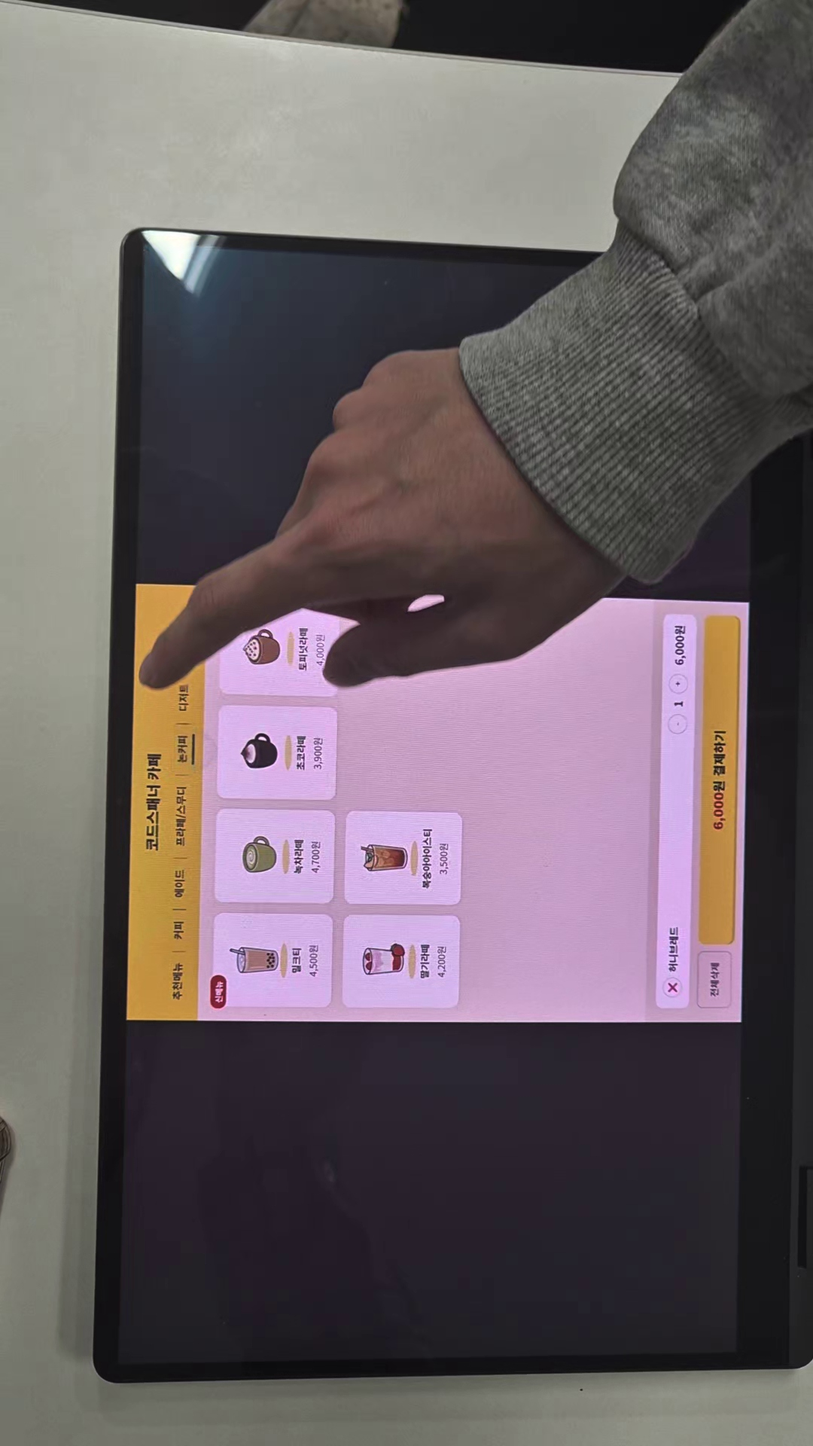action_button: (702, 612, 741, 941), (698, 948, 733, 1012)
cart_item: (658, 609, 697, 1008)
category_tab: (170, 782, 189, 850), (163, 960, 188, 1005), (173, 679, 196, 721), (168, 862, 188, 902), (175, 733, 194, 769), (167, 915, 189, 946)
menu_back: (218, 704, 336, 801), (345, 811, 464, 907), (215, 809, 336, 903), (220, 602, 341, 695), (214, 914, 334, 1007), (343, 915, 461, 1008)
menu_name: (421, 826, 435, 889), (295, 625, 310, 674), (292, 733, 307, 773), (292, 835, 304, 877), (419, 938, 431, 977), (291, 943, 304, 977)
menu_price: (434, 942, 451, 980), (309, 836, 323, 877), (314, 628, 327, 669), (438, 840, 450, 880), (309, 941, 320, 980), (313, 736, 324, 773)
